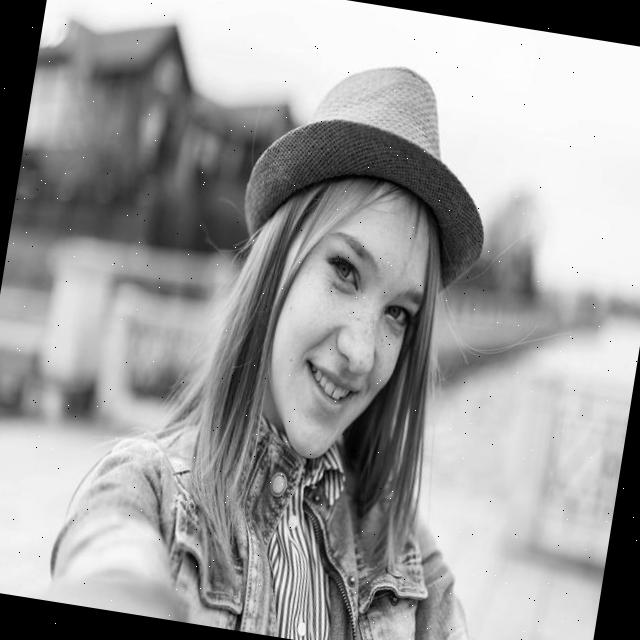Happiness: (254, 169, 443, 476)
